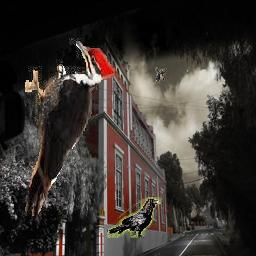Crow: (107, 198, 161, 239)
Sparrow: (155, 67, 167, 81)
Woodpecker: (25, 36, 115, 216)
